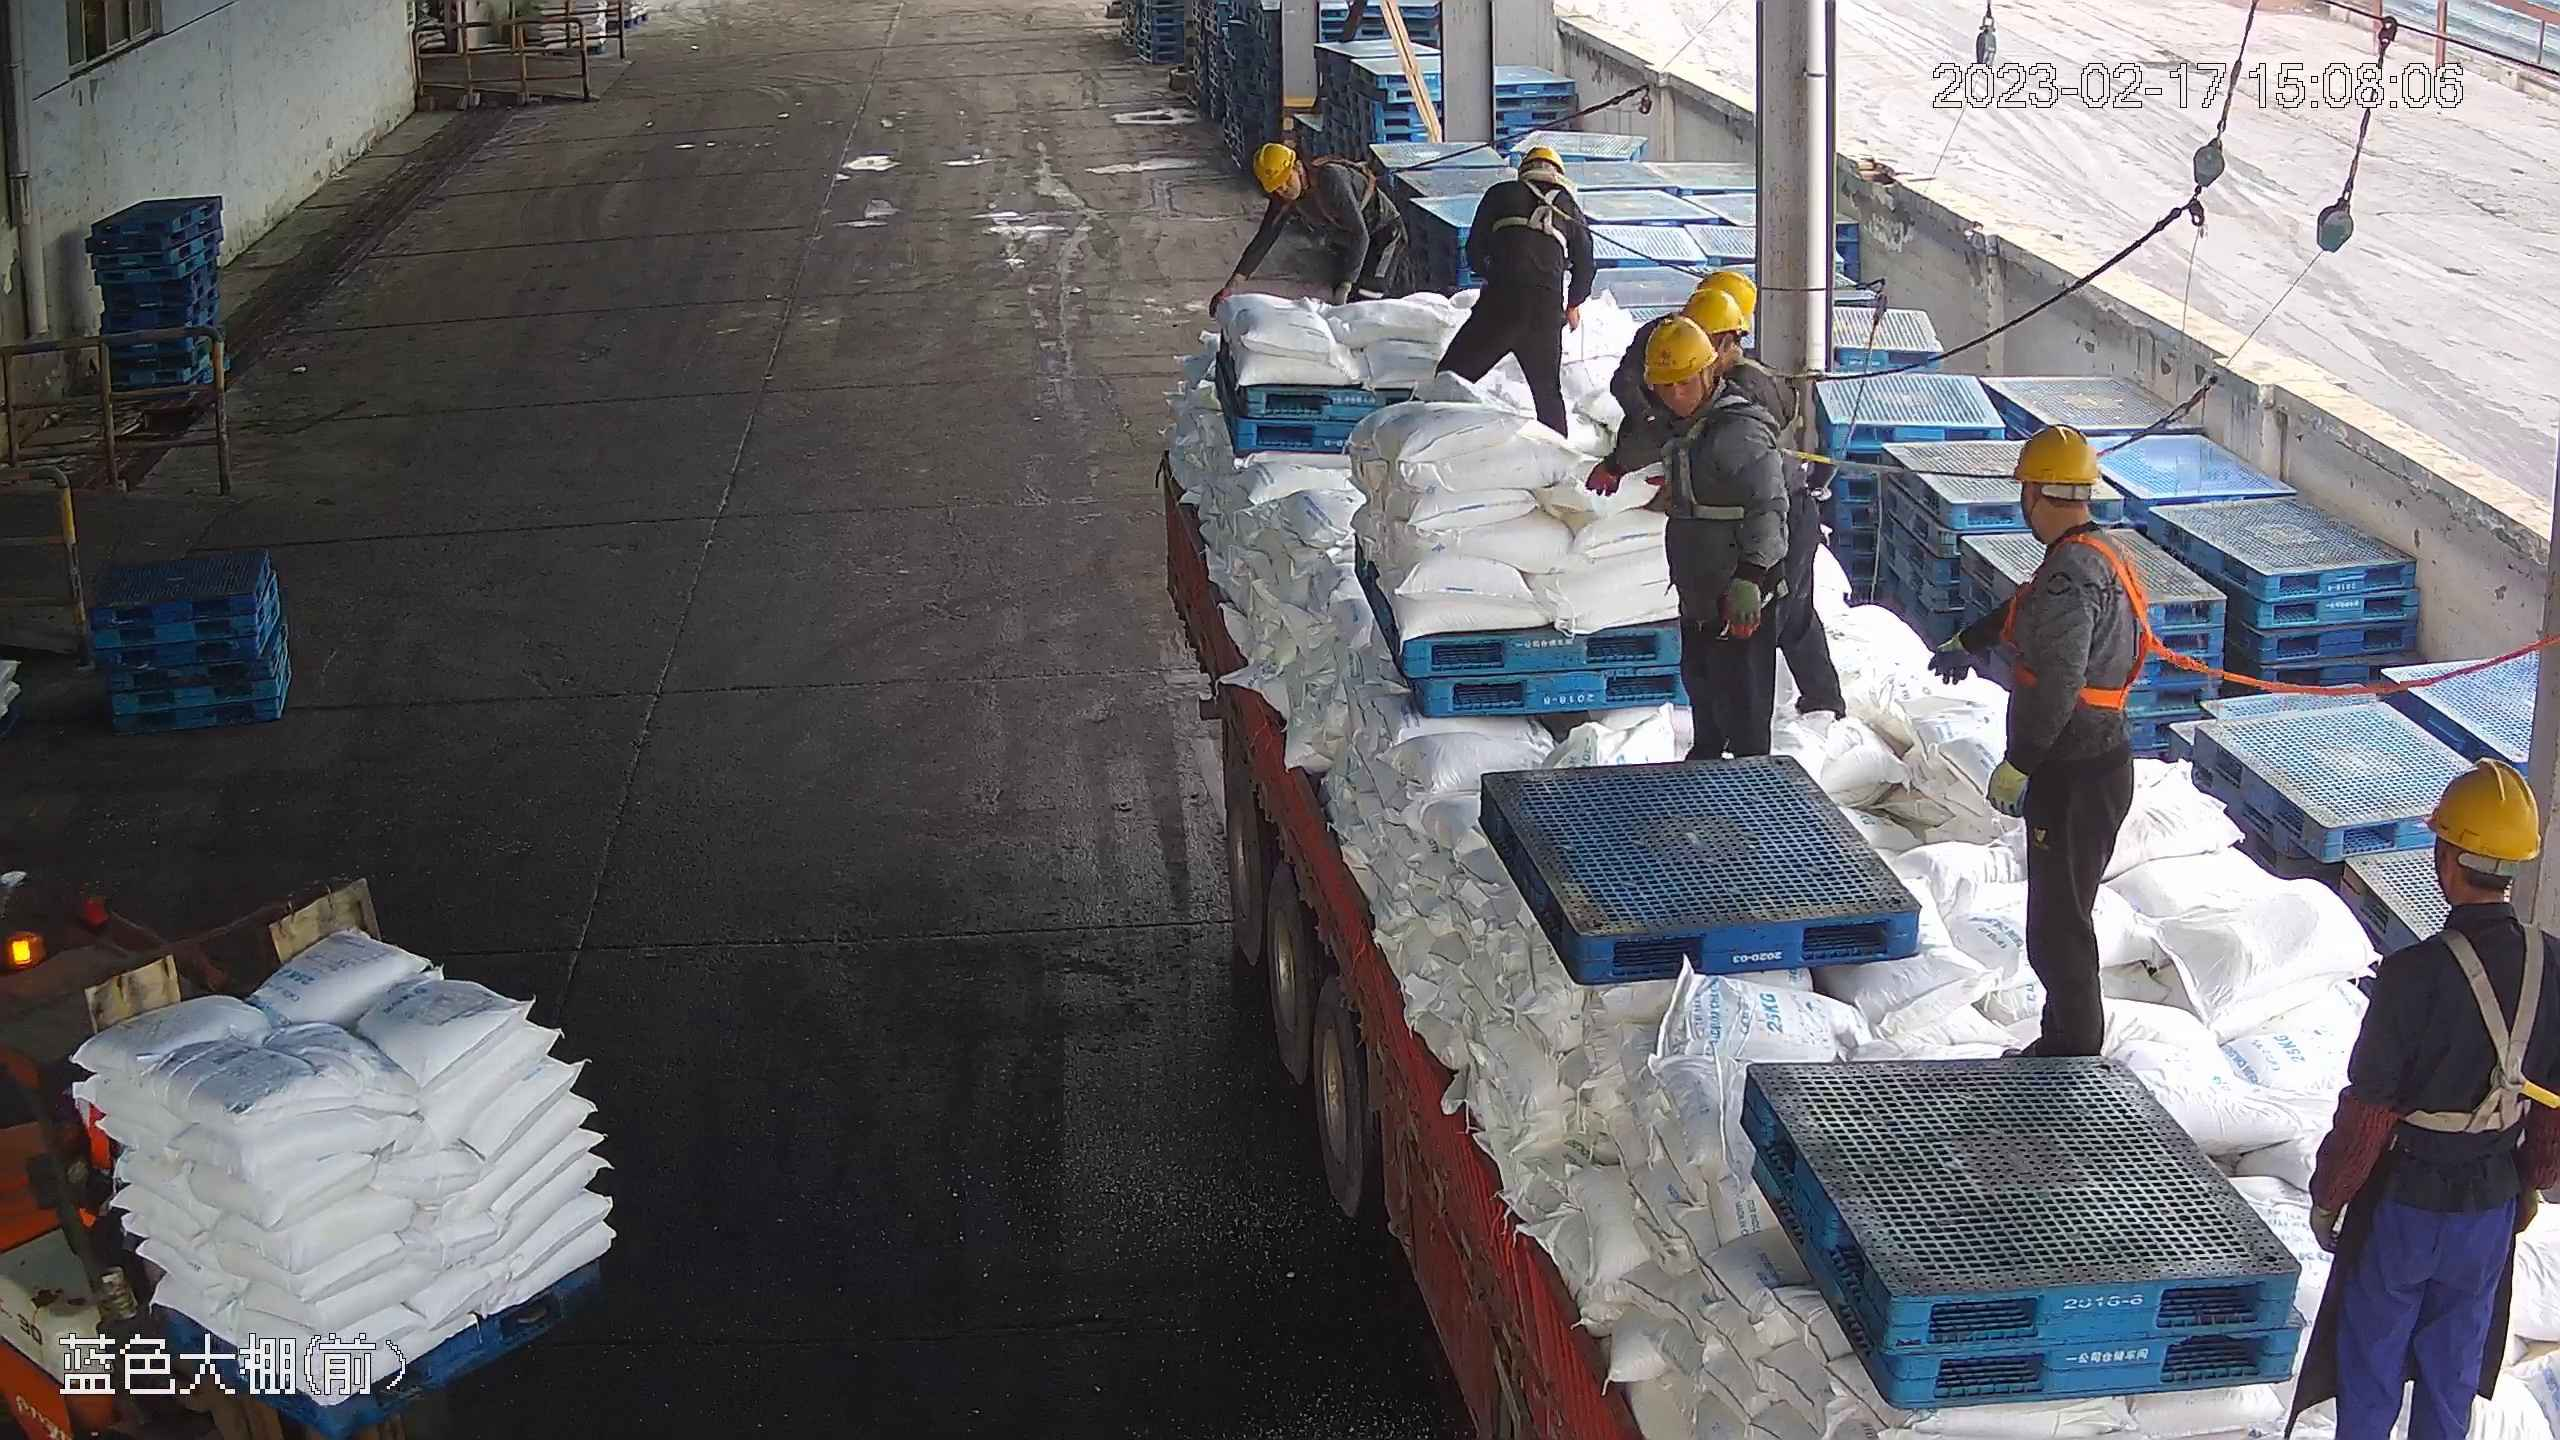head: (2377, 757, 2560, 1040), (1956, 426, 2141, 630), (1636, 316, 1781, 486), (1476, 147, 1590, 259), (1247, 142, 1355, 223)
helmet: (2424, 758, 2541, 866), (2011, 421, 2100, 494), (1646, 318, 1714, 385), (1695, 269, 1761, 318), (1686, 286, 1746, 338), (1248, 143, 1295, 196), (1519, 147, 1566, 181)
people: (2278, 757, 2560, 1440), (1925, 420, 2147, 1059), (1586, 318, 1785, 771), (1684, 288, 1848, 728), (1439, 148, 1600, 438), (1208, 140, 1409, 315)
truck: (1154, 369, 2560, 1440)
